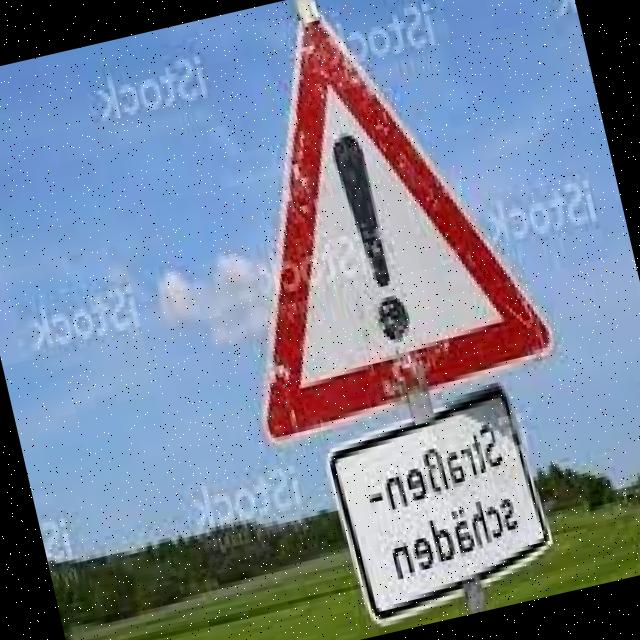warning: (172, 0, 567, 459)
